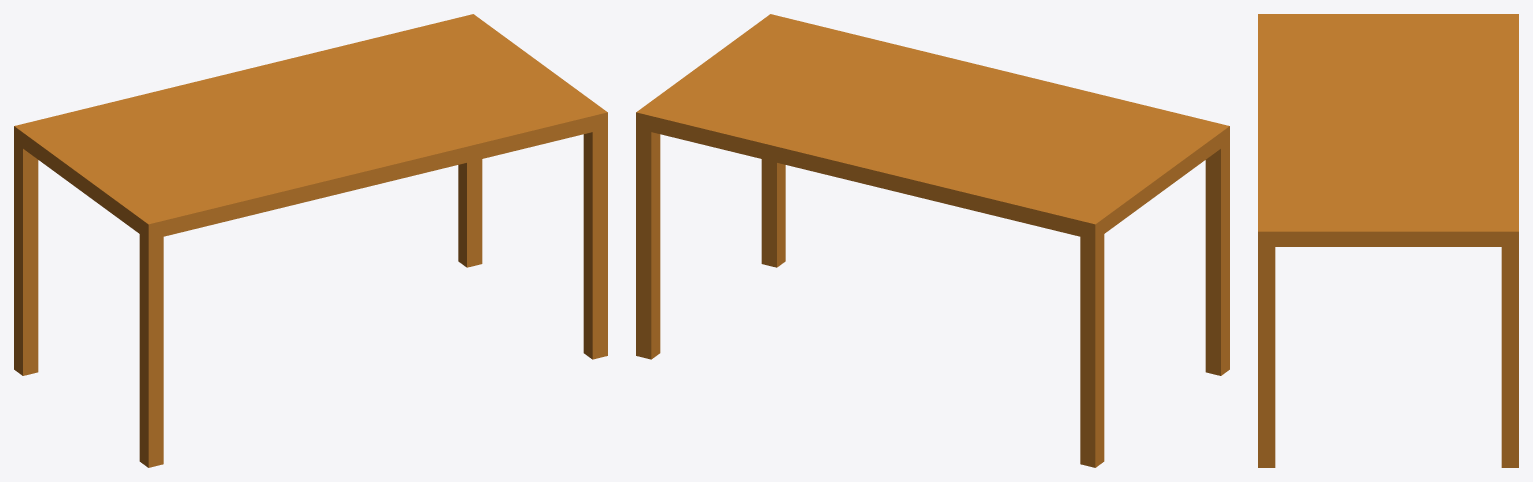
The model's file is table.fbx.
The picture shows the model from 3 angles, left to right: view 1: azimuth 30°, elevation 25°; view 2: azimuth 150°, elevation 25°; view 3: azimuth 270°, elevation 25°; orthographic projection. The views are drawn at different scales.
Parts seen in each view (by area): view 1: table; view 2: table; view 3: table.
Part boxes in pixels (x1,y1,x2,y2): table: (14, 14, 607, 467); table: (636, 14, 1229, 467); table: (1258, 14, 1518, 467).
Bounding box in the file's own units: 150 × 76 × 76.
